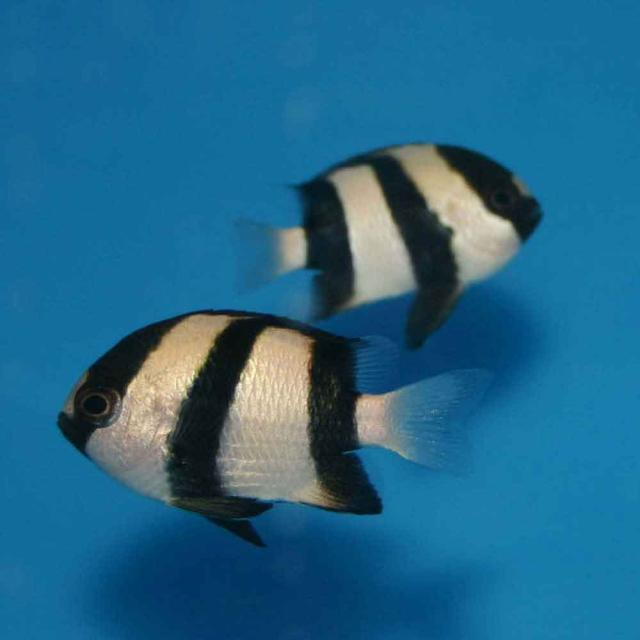ThreeStripedDamselfish: (52, 307, 490, 556), (230, 141, 548, 350)
